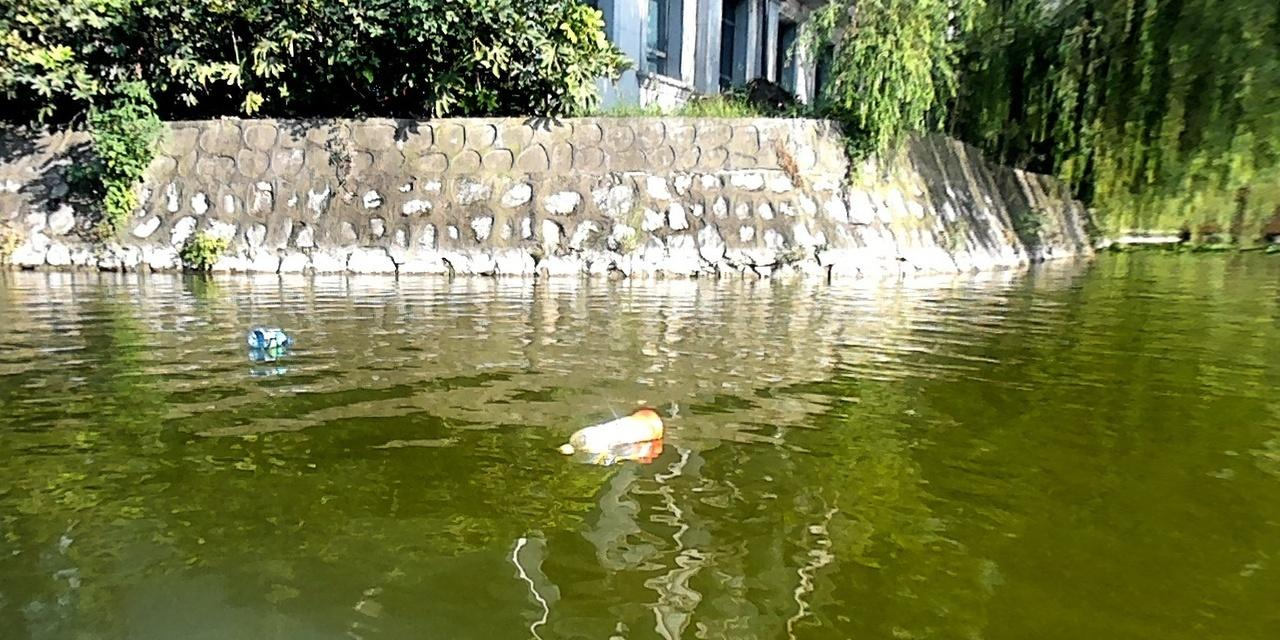bottle: (555, 407, 661, 456), (247, 324, 294, 352)
